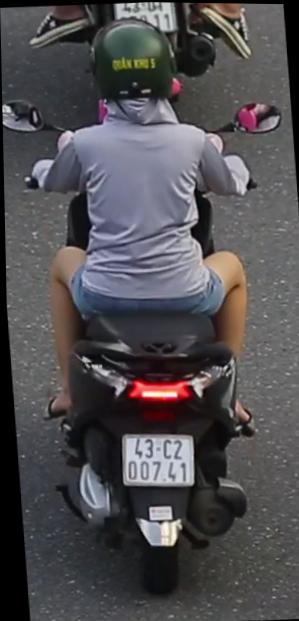LP: (115, 427, 197, 494), (109, 1, 180, 36)
helmet: (84, 14, 182, 133)
